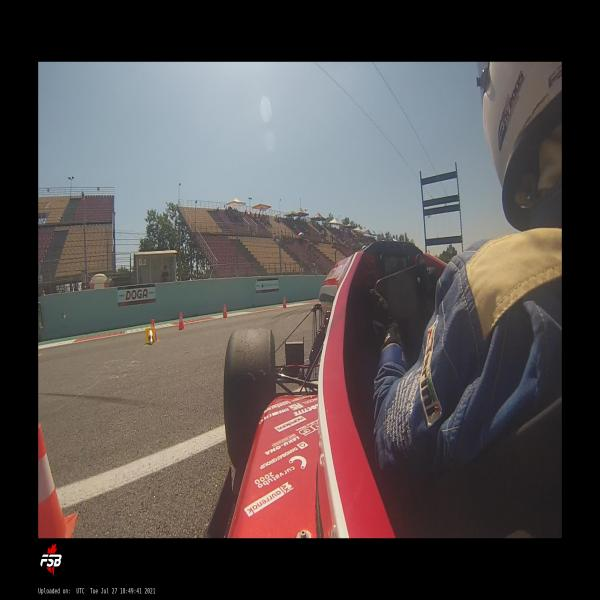orange_cone: (39, 420, 77, 537), (151, 318, 159, 342), (178, 311, 186, 330), (222, 304, 228, 318), (283, 295, 287, 308)
yellow_cone: (145, 328, 154, 345)
